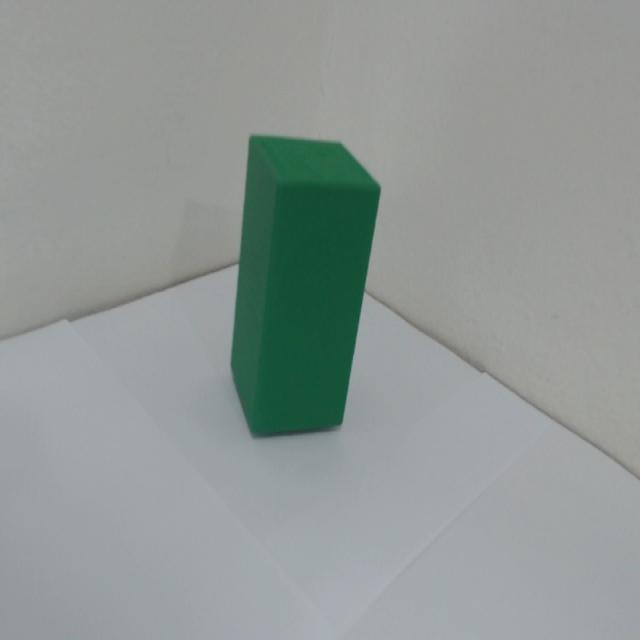cube: (217, 89, 378, 509)
